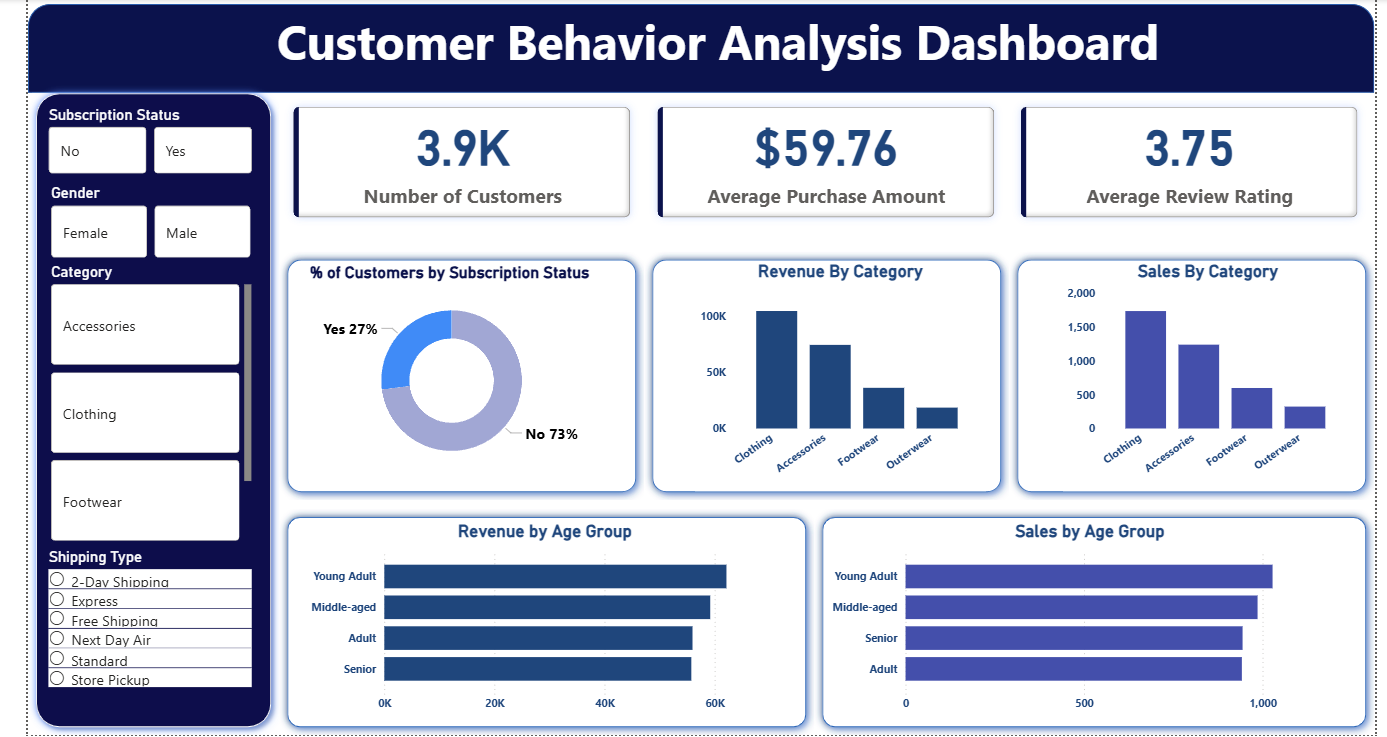

This screenshot's page, from the dashboard's own definition file:
{"tool":"powerbi","page":{"name":"Page 1","canvas":[1500,820],"ordinal":0},"visuals":[{"type":"shape","box":[279.9,568.2,596.1,252.1],"z":0},{"type":"shape","box":[686.6,281.3,406.7,277.1],"z":1000},{"type":"cardVisual","fields":{"Data":["public customer.Number of Customers","public customer.Average Purchase Amount","public customer.Average Review Rating"]},"box":[279.9,104.5,1220,156],"z":2000},{"type":"shape","box":[0,5.6,1499.9,98.9],"z":3000},{"type":"shape","box":[279.9,281.3,406.7,277.1],"z":5000},{"type":"donutChart","title":"% of Customers by Subscription Status","fields":{"Category":["public customer.subscription_status"],"Y":["Count(public customer.customer_id)"]},"box":[309.2,293.9,325.9,242.3],"z":6000},{"type":"clusteredColumnChart","title":"Revenue By Category","fields":{"Category":["public customer.category"],"Y":["Sum(public customer.purchase_amount)"]},"box":[743.7,292.5,323.1,256.3],"z":7000},{"type":"shape","box":[1093.2,281.3,406.7,277.1],"z":8000},{"type":"clusteredColumnChart","title":"Sales By Category","fields":{"Category":["public customer.category"],"Y":["Count(public customer.customer_id)"]},"box":[1153.1,292.5,323.1,256.3],"z":9000},{"type":"shape","box":[0,96.1,279.9,724.2],"z":10000},{"type":"advancedSlicerVisual","title":"Subscription Status","fields":{"Values":["public customer.subscription_status"]},"box":[18.1,118.4,236.8,82.2],"z":11000},{"type":"advancedSlicerVisual","title":"Gender","fields":{"Values":["public customer.gender"]},"box":[20.9,206.1,234,87.7],"z":12000},{"type":"advancedSlicerVisual","title":"Category","fields":{"Values":["public customer.category"]},"box":[20.9,293.9,234,317.5],"z":13000},{"type":"listSlicer","title":"Shipping Type","fields":{"Values":["public customer.shipping_type"]},"box":[18.1,611.4,236.8,208.9],"z":14000},{"type":"clusteredBarChart","title":"Revenue by Age Group","fields":{"Y":["Sum(public customer.purchase_amount)"],"Category":["public customer.age_group"]},"box":[309.2,582.1,533.4,221.4],"z":15000},{"type":"shape","box":[876,568.2,623.9,252.1],"z":16000},{"type":"clusteredBarChart","title":"Sales by Age Group","fields":{"Category":["public customer.age_group"],"Y":["Count(public customer.customer_id)"]},"box":[889.9,582.1,586.3,221.4],"z":17000},{"type":"textbox","box":[100.3,5.6,1337,90.5],"z":18000}]}

Visuals, with their boxes in screenshot pixels (x1, y1, x2, y2), scaled from the page's 1500x820 canvas onto the 1387x737 screenshot:
shape: region(259, 511, 810, 736)
shape: region(635, 253, 1011, 502)
cardVisual - public customer.Number of Customers x public customer.Average Purchase Amount: region(259, 94, 1386, 234)
shape: region(0, 5, 1386, 94)
shape: region(259, 253, 635, 502)
"% of Customers by Subscription Status" donutChart: region(286, 264, 587, 482)
"Revenue By Category" clusteredColumnChart: region(688, 263, 986, 493)
shape: region(1011, 253, 1386, 502)
"Sales By Category" clusteredColumnChart: region(1066, 263, 1365, 493)
shape: region(0, 86, 259, 736)
"Subscription Status" advancedSlicerVisual: region(17, 106, 236, 180)
"Gender" advancedSlicerVisual: region(19, 185, 236, 264)
"Category" advancedSlicerVisual: region(19, 264, 236, 550)
"Shipping Type" listSlicer: region(17, 550, 236, 736)
"Revenue by Age Group" clusteredBarChart: region(286, 523, 779, 722)
shape: region(810, 511, 1386, 736)
"Sales by Age Group" clusteredBarChart: region(823, 523, 1365, 722)
textbox: region(93, 5, 1329, 86)
